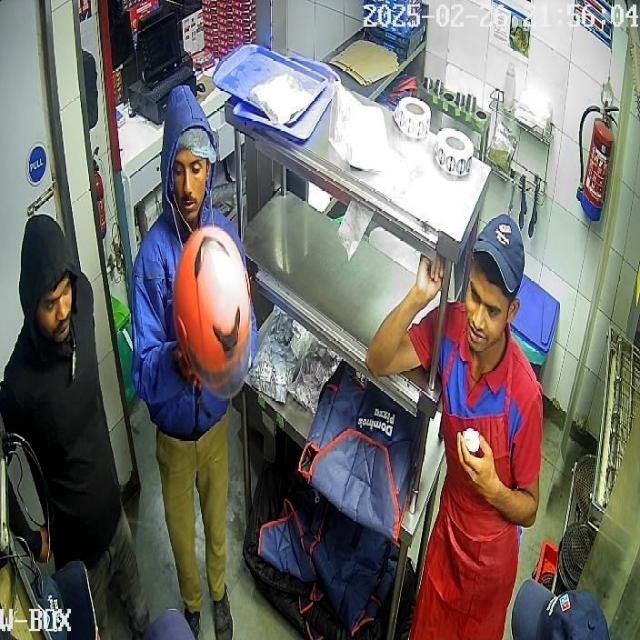helmet: (171, 225, 251, 398)
no_helmet: (464, 213, 524, 371), (18, 213, 80, 346)
